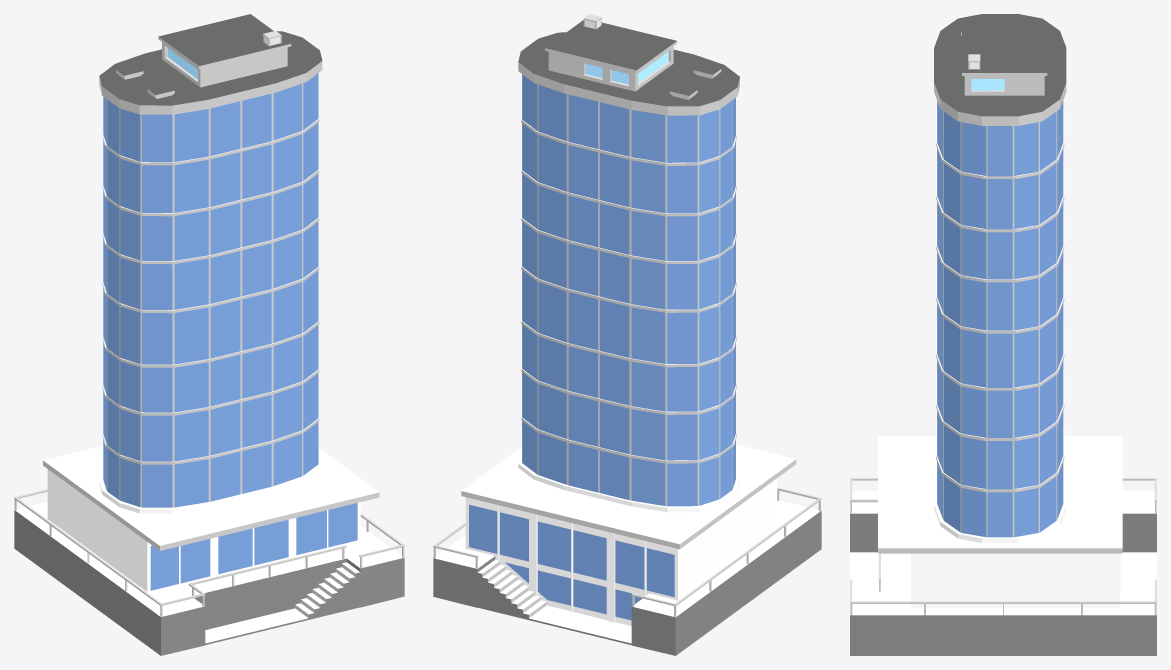
Rendered from tile_for_home_2x2.005 (8).glb.
3 renders of one model, left to right at view 1: azimuth 30°, elevation 25°; view 2: azimuth 150°, elevation 25°; view 3: azimuth 270°, elevation 25°, orthographic. The views are drawn at different scales.
Parts seen in each view (by area): view 1: business centers.008; view 2: business centers.008; view 3: business centers.008.
Part boxes in pixels (box(x1,y1,x2,y2)): business centers.008: box(14, 14, 404, 655); business centers.008: box(433, 14, 821, 655); business centers.008: box(850, 14, 1156, 655).
Size of the model in its own units: 14.34 by 30.18 by 14.95.
Materials: 1 (1 with a texture image).
